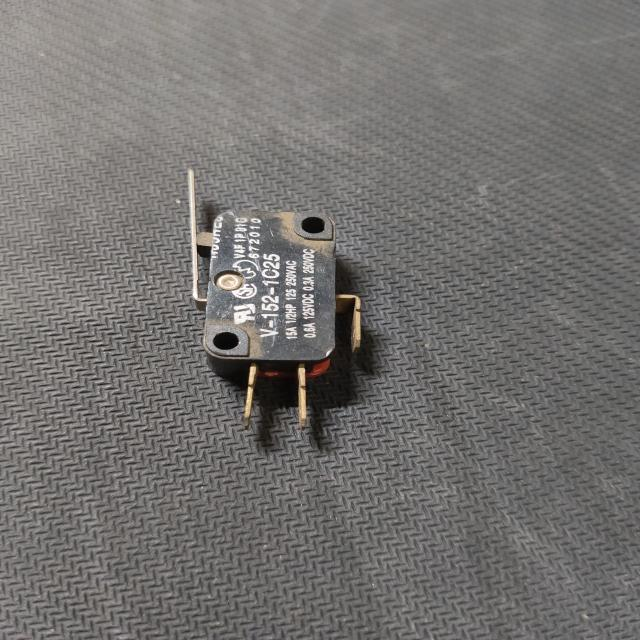switch: (175, 161, 393, 430)
